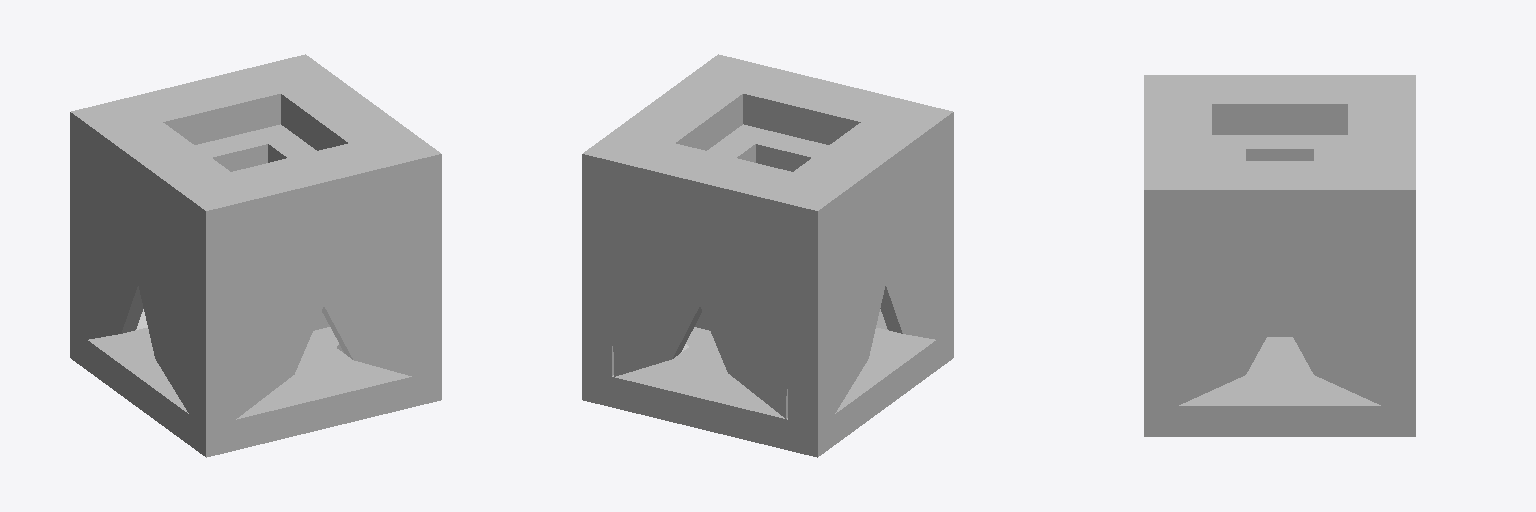
File: FlowerBurner.obj
3 renders of one model, left to right at view 1: azimuth 30°, elevation 25°; view 2: azimuth 150°, elevation 25°; view 3: azimuth 270°, elevation 25°, orthographic.
Parts seen in each view (by area): view 1: pCube1; view 2: pCube1; view 3: pCube1.
Part boxes in pixels (left/top/right/bottom): pCube1: left=70, top=54, right=441, bottom=457; pCube1: left=582, top=54, right=953, bottom=457; pCube1: left=1144, top=75, right=1415, bottom=436.
Bounding box in the file's own units: 1 × 1 × 1.